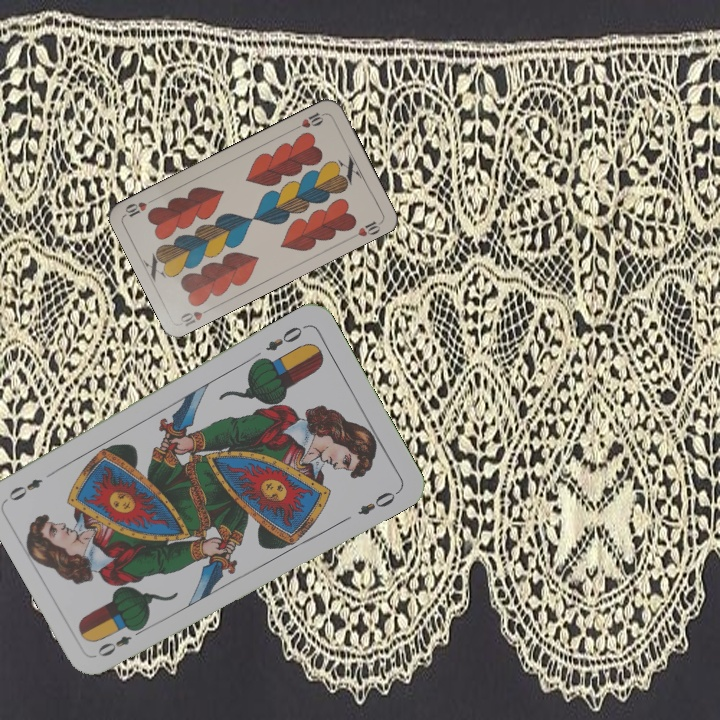EO: (93, 623, 147, 660), (261, 321, 309, 354)
H10: (176, 303, 215, 329), (290, 108, 328, 133)
